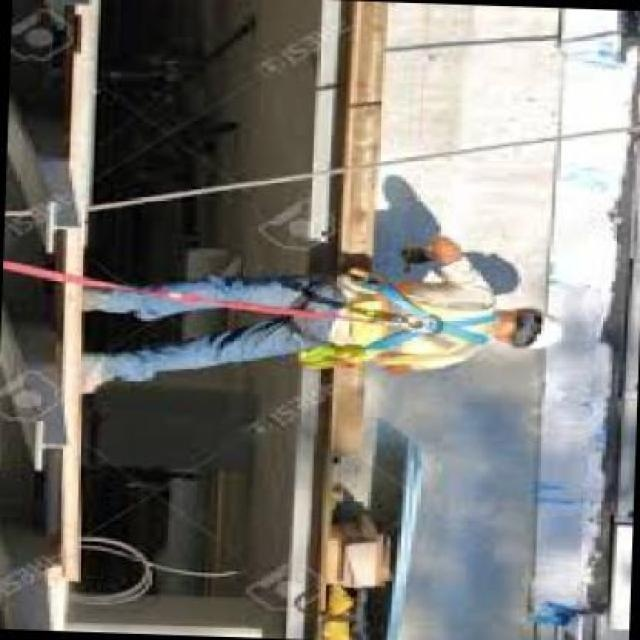Arnes_seguridad: (263, 269, 506, 362)
